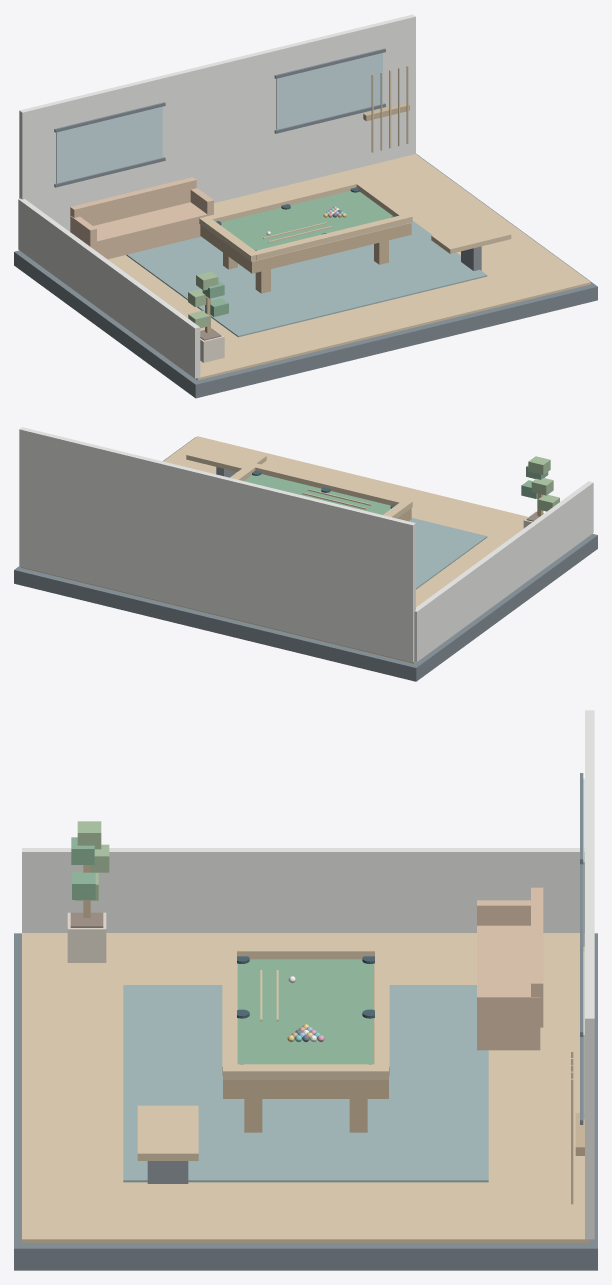
The model's file is billiard_room.glb.
3 views of the same model, one above another, from view 1: azimuth 30°, elevation 25°; view 2: azimuth 150°, elevation 25°; view 3: azimuth 270°, elevation 25° (orthographic). The views are drawn at different scales.
Parts seen in each view (by area): view 1: room_rear_wall_3, room_floor_2, billiard_rug_11, room_foundation_1, room_left_wall_4, room_window_5, room_window_8, billiard_felt_17, sofa_base_52, sofa_back_53, billiard_body_16, end_rail_21 (+8 smaller); view 2: room_rear_wall_3, room_foundation_1, room_left_wall_4, room_floor_2, billiard_rug_11, billiard_felt_17, end_rail_21, side_table_56, voxel_leaf_65; view 3: room_floor_2, billiard_rug_11, room_left_wall_4, room_foundation_1, billiard_felt_17, room_rear_wall_3, sofa_base_52, side_table_56, billiard_body_16, sofa_arm_55, side_rail_19, side_rail_18 (+6 smaller).
Part boxes in pixels (x1,y1,x2,y2): room_rear_wall_3: (19,14,415,231); room_floor_2: (108,154,590,380); billiard_rug_11: (126,221,487,337); room_foundation_1: (14,153,597,398); room_left_wall_4: (18,198,200,378); room_window_5: (56,106,162,183); room_window_8: (276,53,382,129); billiard_felt_17: (221,190,392,250); sofa_base_52: (91,202,213,259); sofa_back_53: (70,177,196,231); billiard_body_16: (200,222,411,273); end_rail_21: (255,215,407,260); room_rear_wall_3: (19,427,415,662); room_foundation_1: (14,437,597,681); room_left_wall_4: (414,481,593,661); room_floor_2: (21,436,527,663); billiard_rug_11: (409,518,487,589); billiard_felt_17: (244,474,390,514); end_rail_21: (252,463,405,505); side_table_56: (186,441,266,471); voxel_leaf_65: (528,456,550,474); room_floor_2: (22,933,589,1242); billiard_rug_11: (123,985,488,1182); room_left_wall_4: (22,848,584,932); room_foundation_1: (14,933,597,1270); billiard_felt_17: (238,959,373,1064); room_rear_wall_3: (585,710,594,1239); sofa_base_52: (477,925,540,1050); side_table_56: (137,1105,198,1160); billiard_body_16: (223,963,388,1098); sofa_arm_55: (477,992,540,1035); side_rail_19: (223,1064,388,1079); side_rail_18: (223,944,388,959).
Size of the model in its own units: 9.2 by 3.38 by 7.2.
